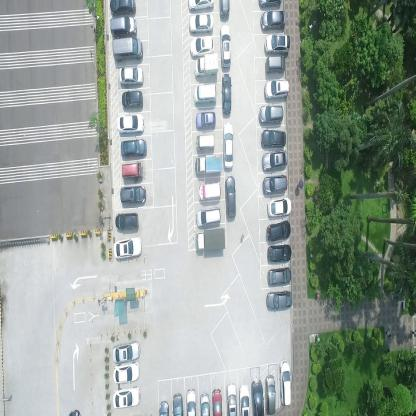car: (195, 226, 226, 252), (112, 236, 142, 262), (111, 343, 140, 369), (112, 37, 142, 62), (112, 360, 141, 385), (112, 386, 141, 410), (262, 149, 288, 173), (194, 155, 222, 177), (116, 113, 144, 135), (109, 15, 137, 37), (279, 360, 292, 407), (260, 8, 286, 31), (195, 205, 222, 227), (265, 290, 292, 312), (263, 32, 290, 54), (194, 54, 219, 77), (264, 78, 290, 100), (267, 219, 290, 243), (224, 122, 235, 172), (259, 104, 284, 126), (266, 196, 291, 218), (120, 140, 147, 160), (119, 184, 146, 204), (251, 377, 265, 415), (220, 24, 232, 68), (190, 35, 214, 57), (193, 84, 217, 106), (189, 13, 214, 34), (262, 174, 287, 195), (119, 66, 144, 86), (114, 212, 139, 232), (261, 131, 287, 150), (109, 0, 136, 18), (268, 266, 292, 286), (225, 174, 236, 217), (198, 184, 221, 204), (268, 243, 292, 262), (265, 374, 276, 415), (120, 162, 142, 182), (264, 54, 286, 74), (121, 91, 144, 110), (222, 73, 232, 115), (226, 381, 238, 415), (239, 381, 251, 415), (196, 112, 217, 130), (196, 135, 215, 152), (212, 386, 223, 415), (187, 0, 215, 11), (172, 392, 184, 416), (199, 390, 210, 415), (186, 388, 196, 415), (218, 0, 231, 19), (259, 0, 282, 8)
